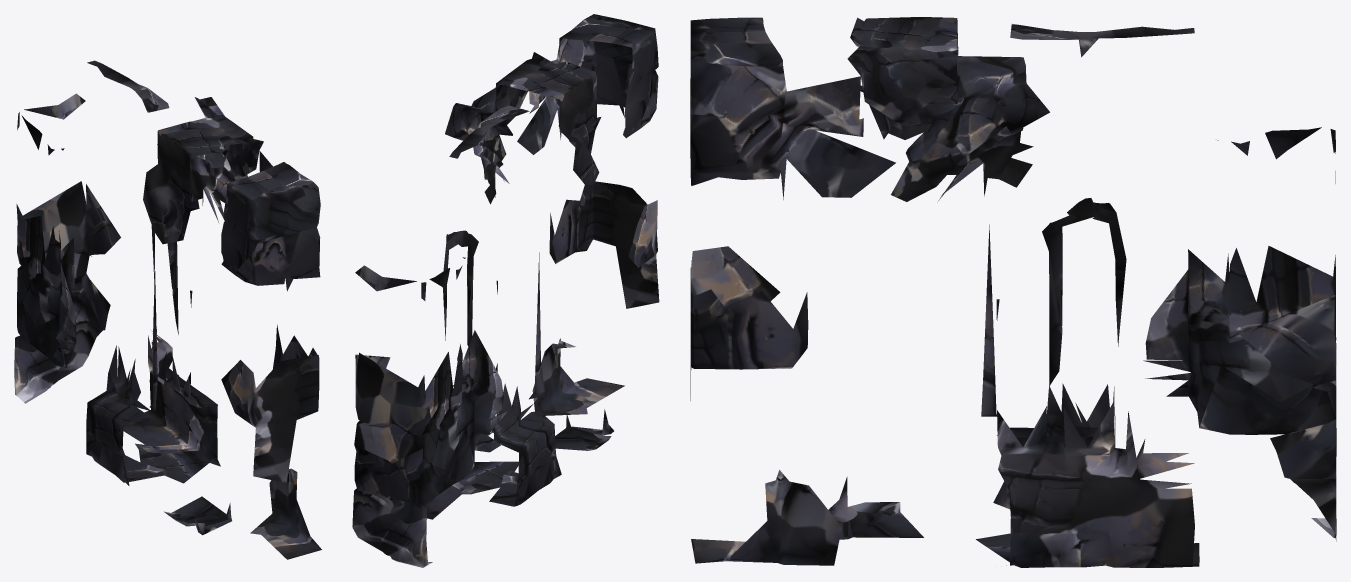
File: RIP0 (2).obj
3 renders of one model, left to right at view 1: azimuth 30°, elevation 25°; view 2: azimuth 150°, elevation 25°; view 3: azimuth 270°, elevation 25°, orthographic. The views are drawn at different scales.
Visible parts, largest first — view 1: RIP0; view 2: RIP0; view 3: RIP0.
Boxes of the visible parts, x1,y1,x2,y2 form: RIP0: (14,60,321,559); RIP0: (352,14,659,567); RIP0: (690,17,1336,567).
Bounding box in the file's own units: 0.2533 × 0.8644 × 1.
